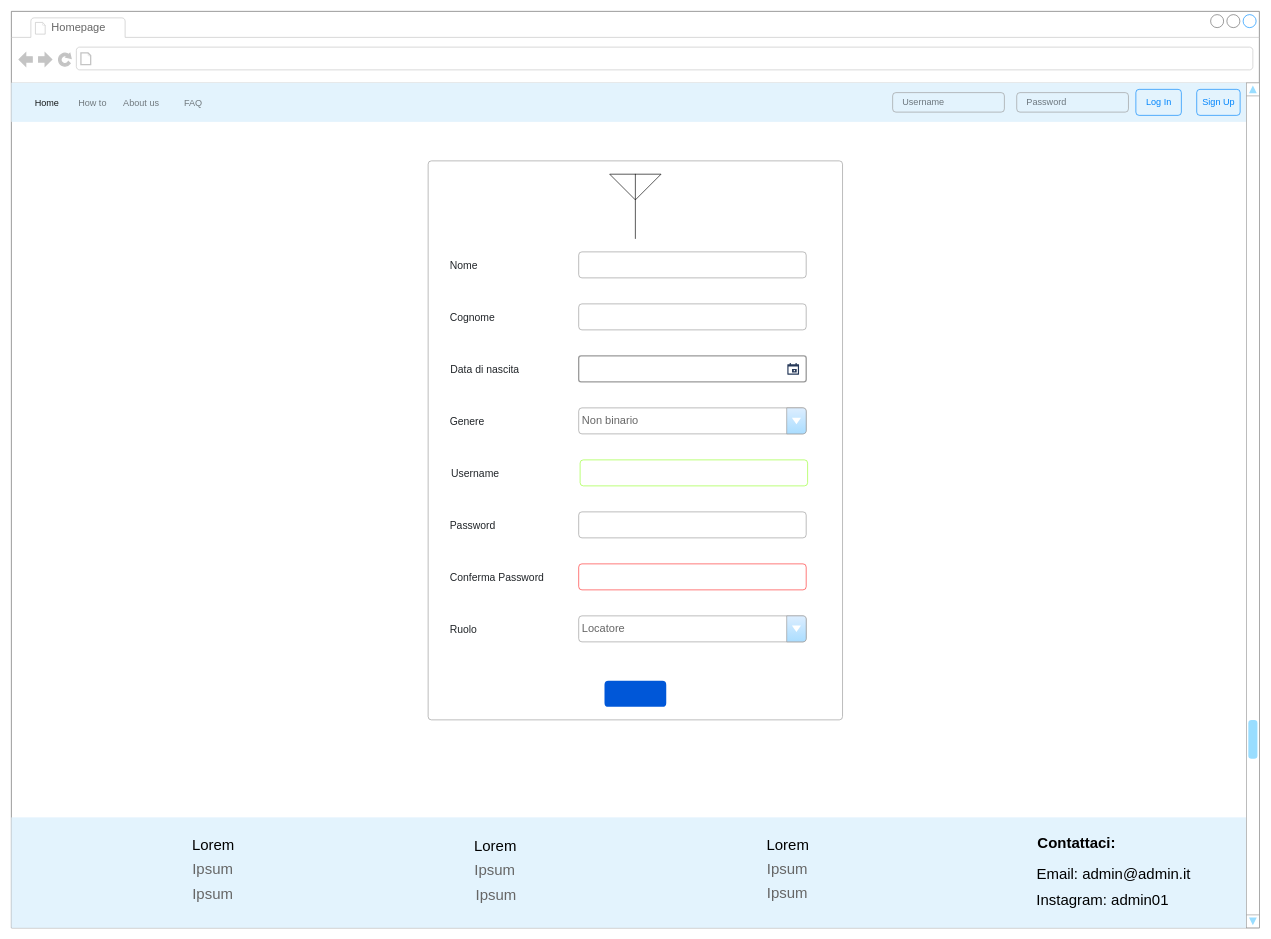
Some shapes in this 1271 by 939 pixel diagram are drawn without their labels. Each missing label, with the centre of its shape:
https://www.kumuuzag.it: the point at 176,58
Registrati: the point at 635,694
Today: the point at 692,368
